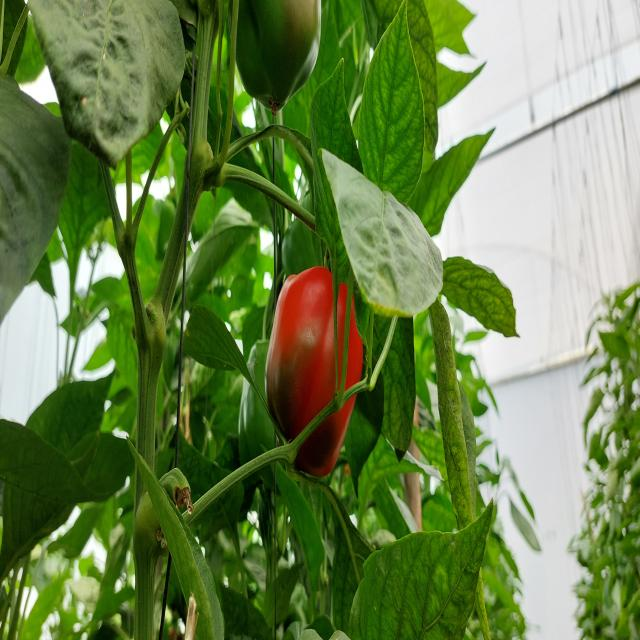BrownishRed--Can-be-Harvested: (278, 250, 361, 478), (225, 0, 324, 112)
